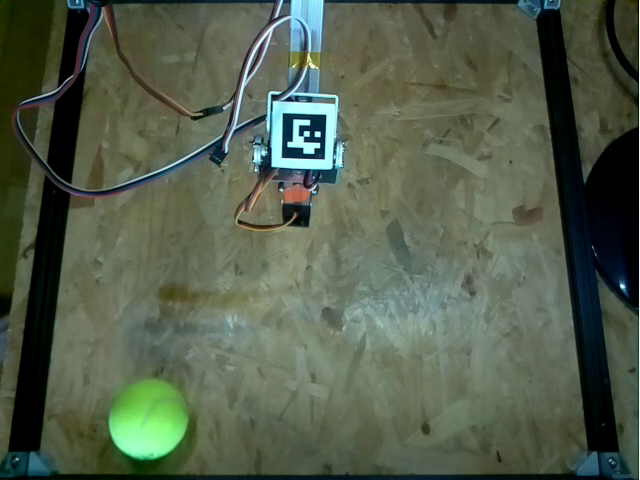tennis_ball: (108, 377, 190, 460)
